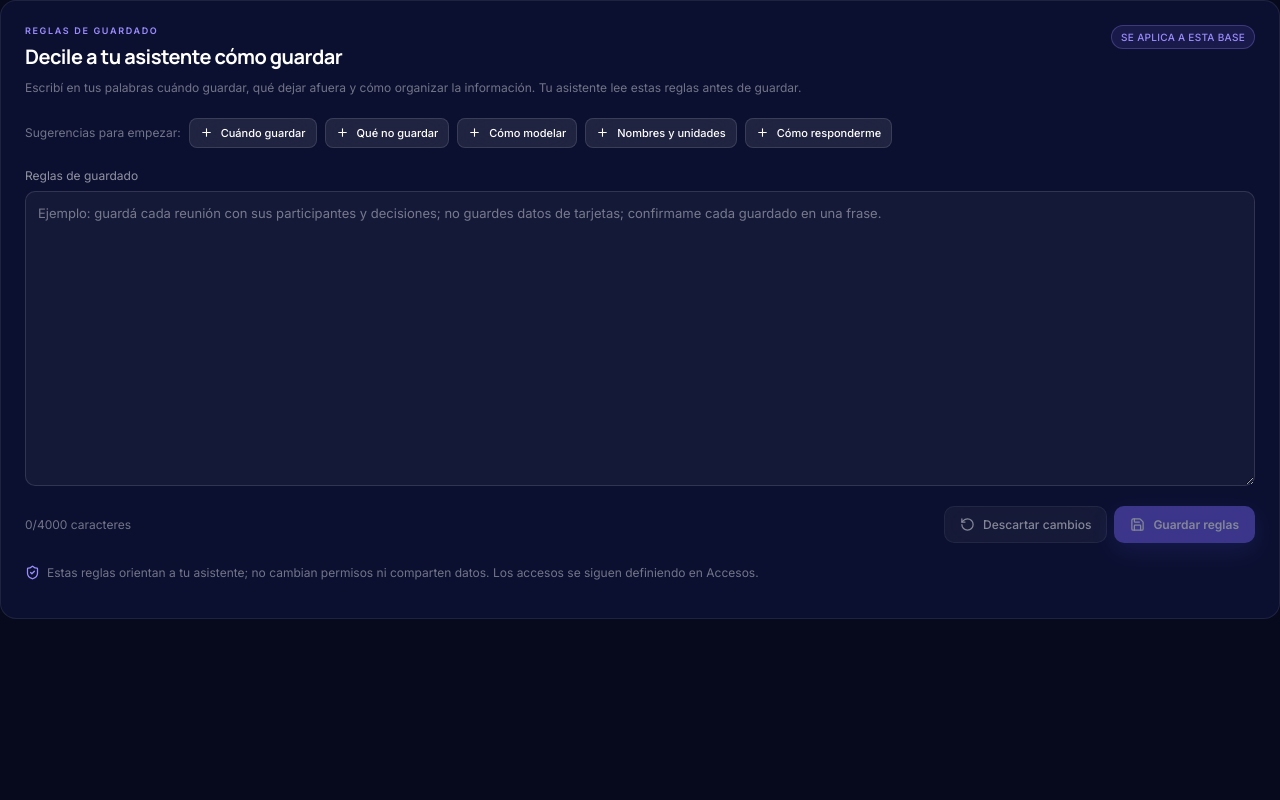
informa cuando la acción falla y no pierde lo escrito
Replace the text in the text box labelled "Reglas de guardado" with "Regla nueva." at (640, 338), box [25, 191, 1255, 486]
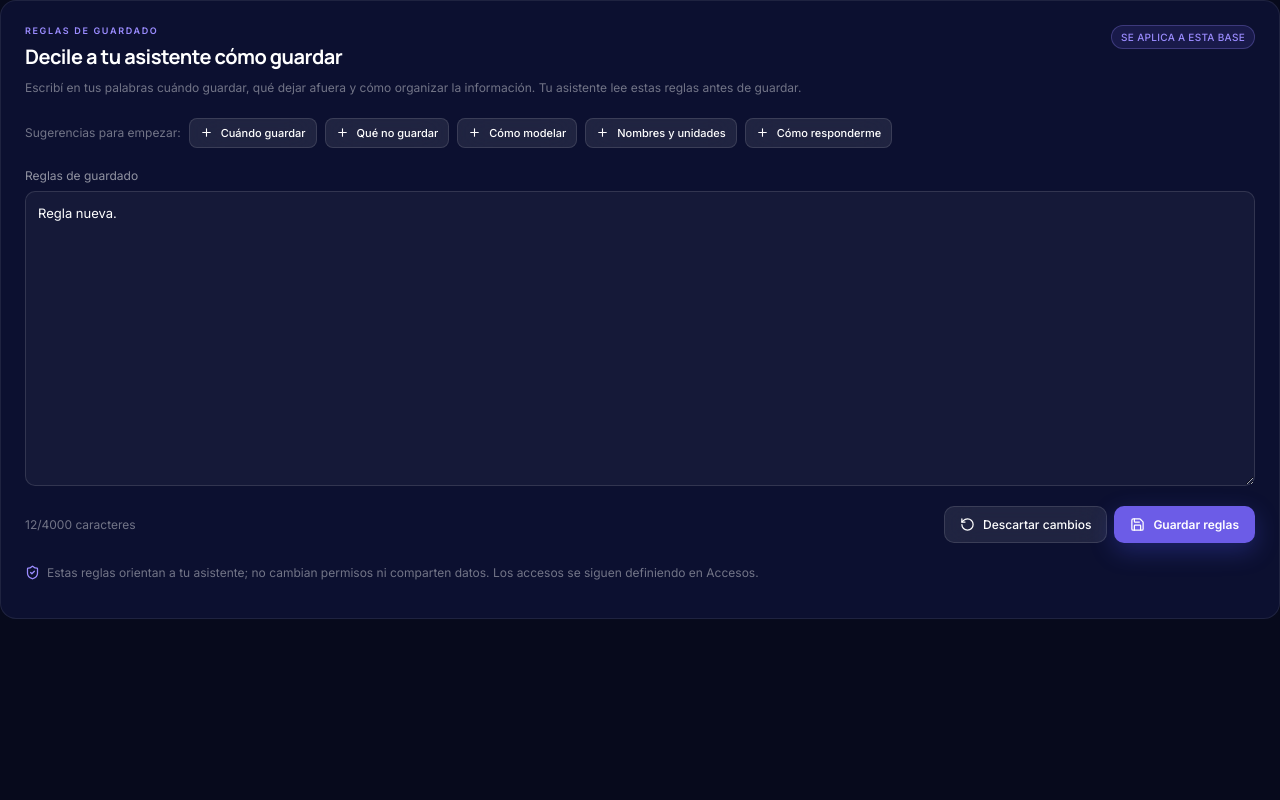
Click the button "Guardar reglas".
click(1185, 524)  # box [1114, 506, 1255, 543]
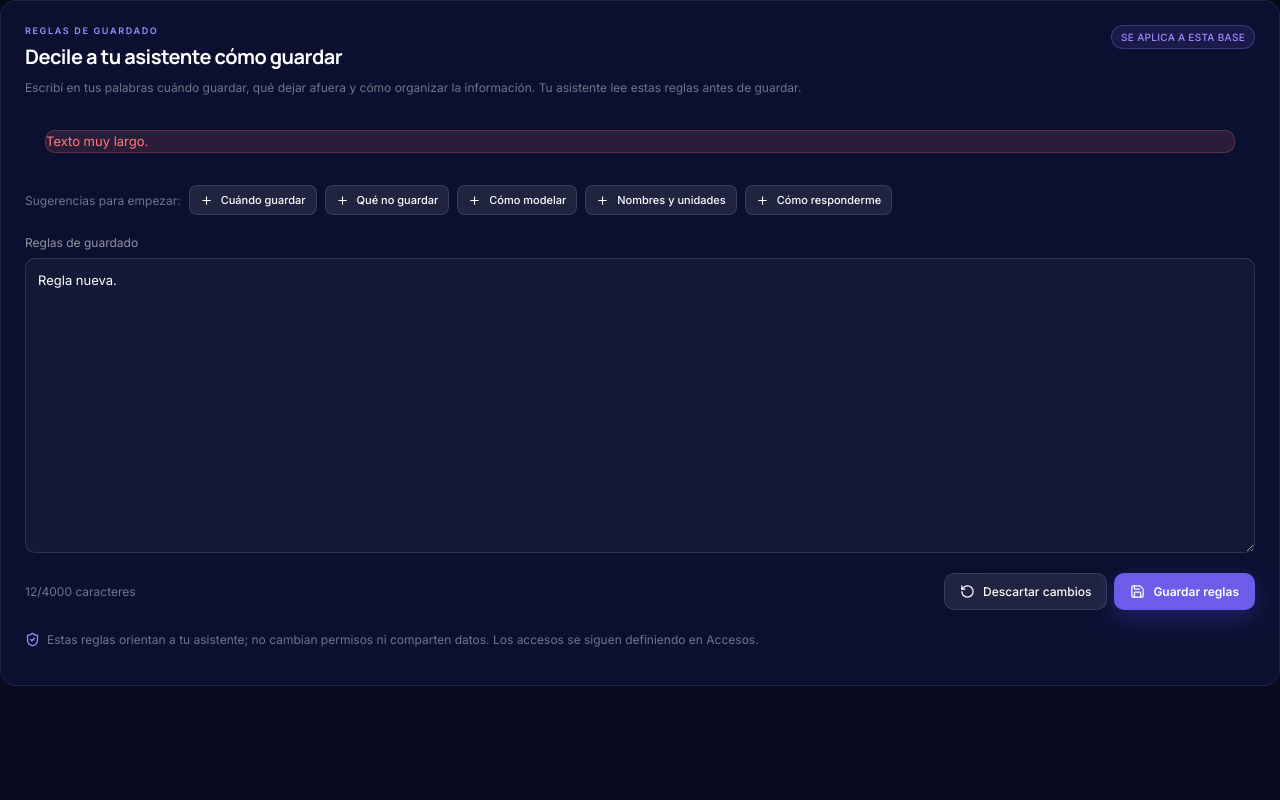
Expected: the message reads "Texto muy largo.", [46, 133, 148, 149]
